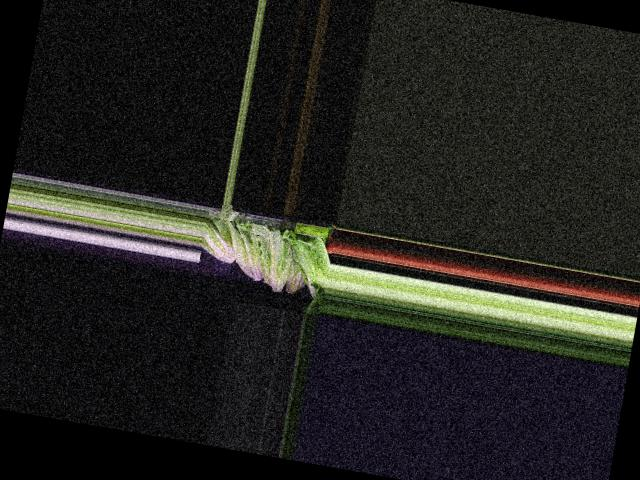lettuce: (198, 219, 244, 266)
